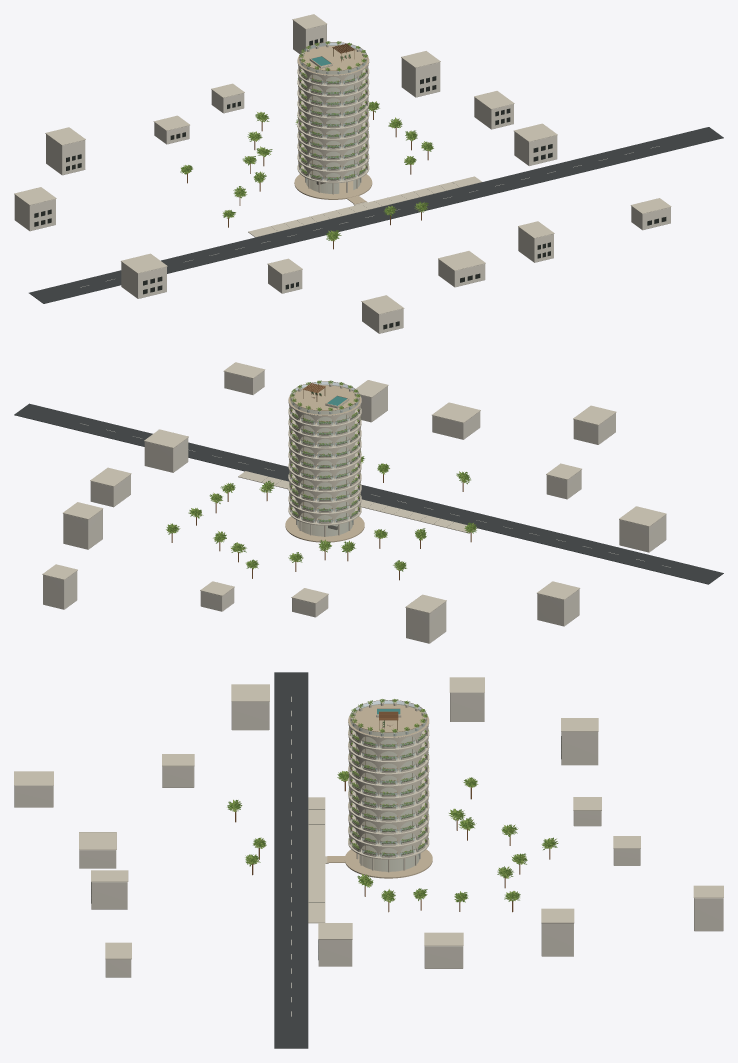
File: tower.glb
The picture shows the model from 3 angles, top to bottom: view 1: azimuth 30°, elevation 25°; view 2: azimuth 150°, elevation 25°; view 3: azimuth 270°, elevation 25°; orthographic projection. The views are drawn at different scales.
Parts seen in each view (by area): view 1: EME_tower; view 2: EME_tower; view 3: EME_tower.
Boxes of the visible parts, x1,y1,x2,y2 form: EME_tower: [14, 14, 723, 333]; EME_tower: [14, 362, 723, 643]; EME_tower: [14, 672, 723, 1048].
Size of the model in its own units: 210 by 39.3 by 168.
